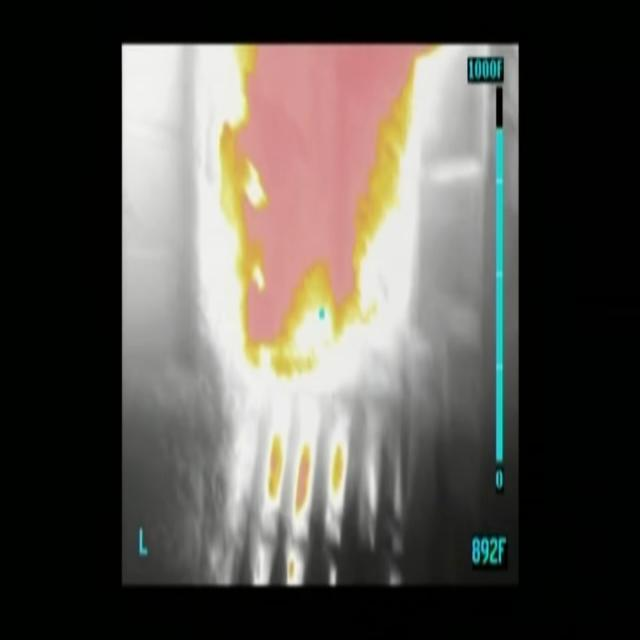fire: (233, 44, 440, 359)
